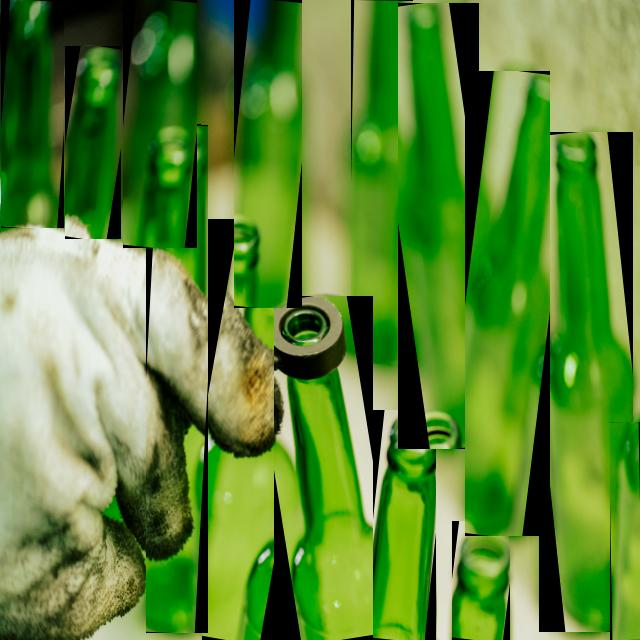Bottle: (540, 132, 633, 632), (465, 71, 549, 536), (399, 4, 478, 449), (274, 297, 373, 639), (352, 0, 413, 364), (235, 0, 302, 308), (203, 436, 295, 639), (123, 0, 196, 247), (372, 411, 436, 639), (2, 0, 63, 227), (65, 47, 121, 239), (149, 125, 200, 290), (150, 125, 200, 291), (453, 522, 509, 639), (610, 423, 639, 639)
